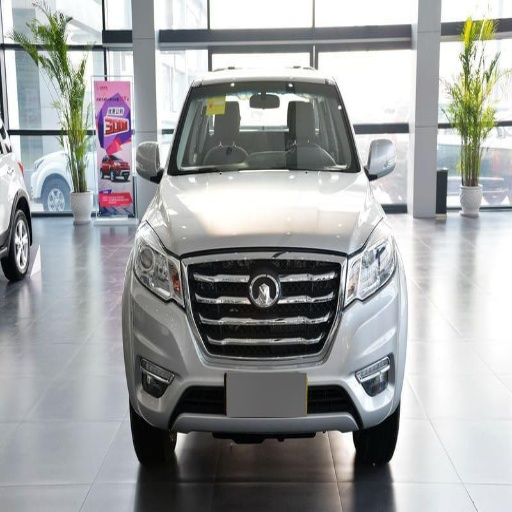front_bumper: (129, 252, 401, 431)
front_right_light: (132, 222, 181, 299)
hood: (149, 173, 379, 255)
